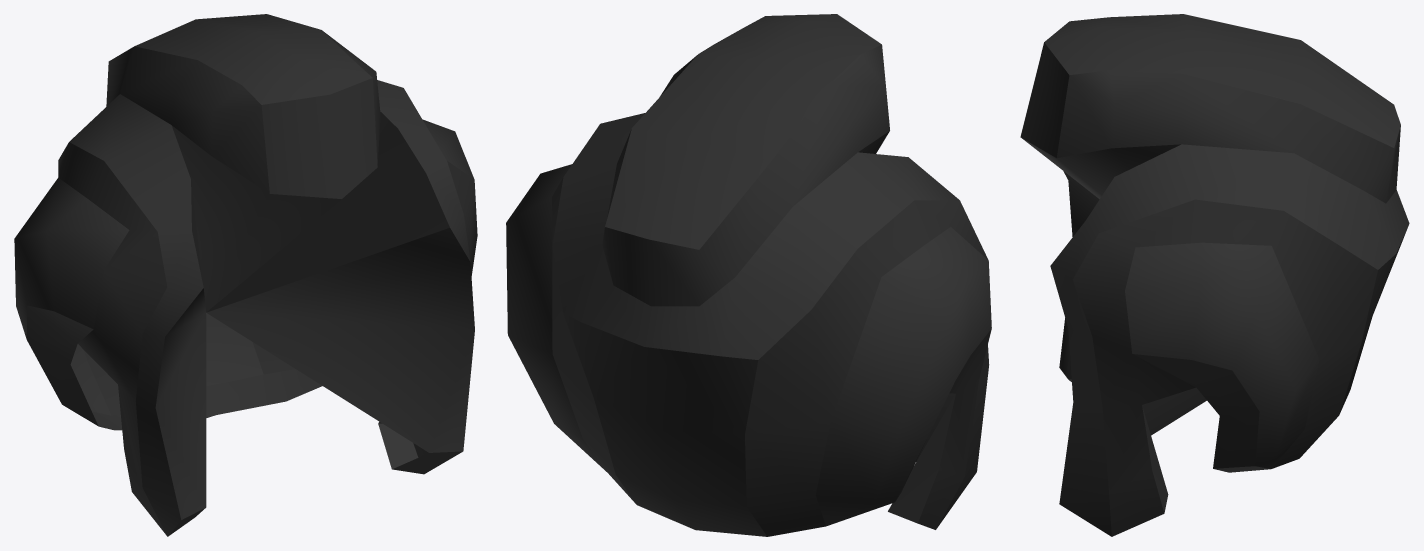
Rendered from Male_Hairs_02.fbx.
The picture shows the model from 3 angles, left to right: view 1: azimuth 30°, elevation 25°; view 2: azimuth 150°, elevation 25°; view 3: azimuth 270°, elevation 25°; orthographic projection. The views are drawn at different scales.
Visible parts, largest first — view 1: Male_Hairs_02; view 2: Male_Hairs_02; view 3: Male_Hairs_02.
Boxes of the visible parts, bbox=[...] form: Male_Hairs_02: bbox=[14, 14, 477, 536]; Male_Hairs_02: bbox=[506, 14, 991, 536]; Male_Hairs_02: bbox=[1020, 14, 1409, 536].
Bounding box in the file's own units: 63.93 × 65.97 × 52.04.
